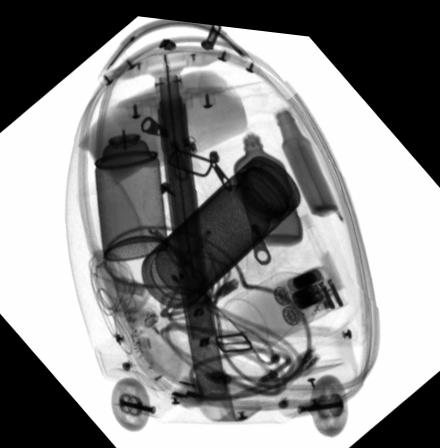Sprayer: (95, 104, 168, 258)
